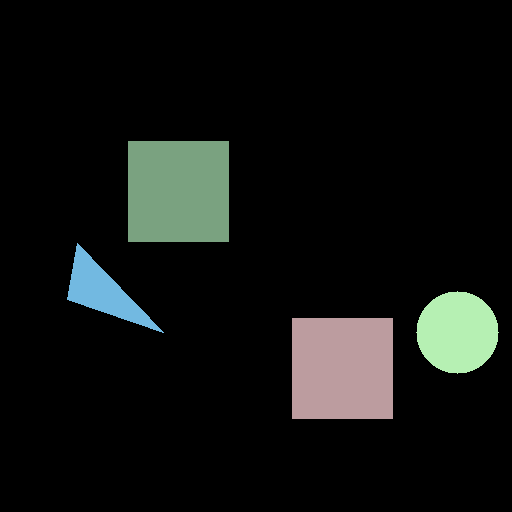circle: (416, 291, 498, 373)
square: (292, 318, 392, 418), (128, 141, 228, 241)
triangle: (67, 243, 163, 332)
